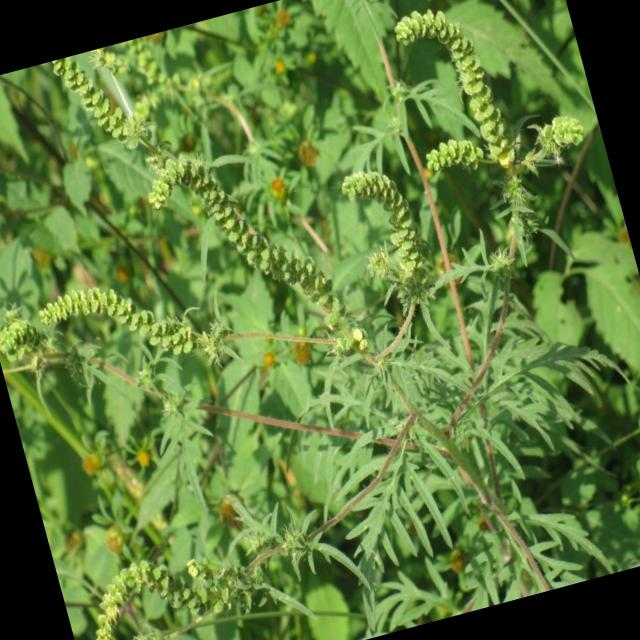ambrosia: (372, 0, 611, 275), (123, 105, 354, 366), (0, 223, 232, 449), (31, 29, 202, 193), (66, 506, 273, 640), (318, 144, 450, 325)
